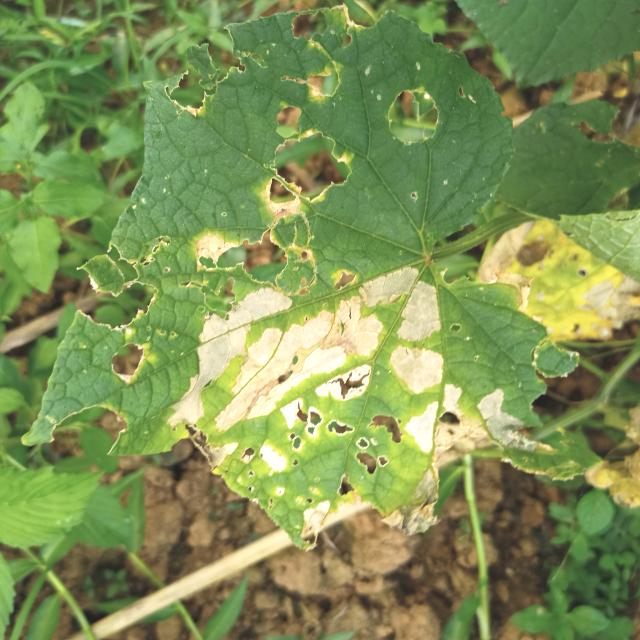disease_cucumber: (176, 268, 534, 522), (158, 39, 332, 289)
